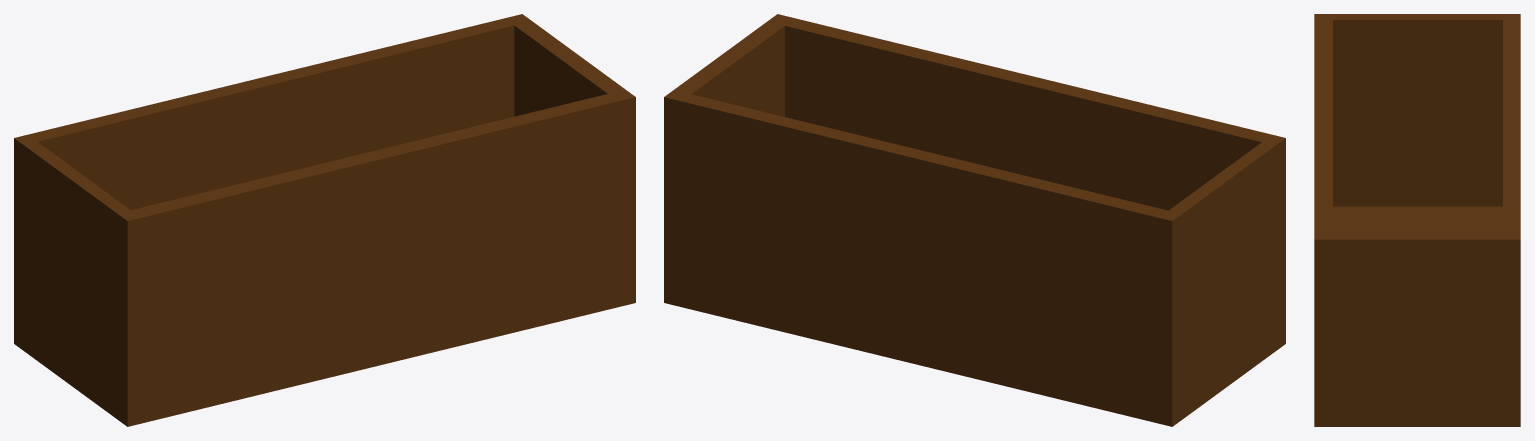
File: Holzkiste_lang.fbx
The picture shows the model from 3 angles, left to right: view 1: azimuth 30°, elevation 25°; view 2: azimuth 150°, elevation 25°; view 3: azimuth 270°, elevation 25°; orthographic projection. The views are drawn at different scales.
Parts seen in each view (by area): view 1: polySurface334; view 2: polySurface334; view 3: polySurface334.
Part boxes in pixels (x1,y1,x2,y2): polySurface334: (14,14,635,426); polySurface334: (664,14,1285,426); polySurface334: (1314,14,1520,426).
Size of the model in its own units: 258 by 100 by 100.
